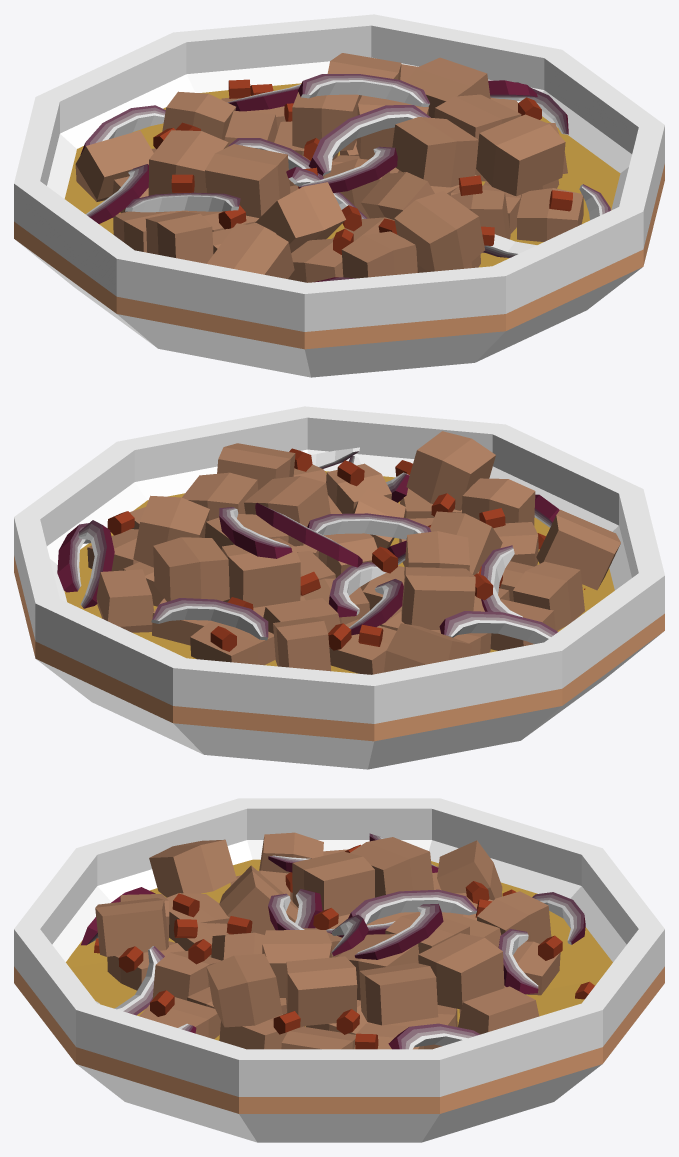
The model's file is FINAL_Kinilaw sa Isda.fbx.
The picture shows the model from 3 angles, top to bottom: view 1: azimuth 30°, elevation 25°; view 2: azimuth 150°, elevation 25°; view 3: azimuth 270°, elevation 25°; orthographic projection. The views are drawn at different scales.
Parts seen in each view (by area): view 1: Kinilaw sa Isda; view 2: Kinilaw sa Isda; view 3: Kinilaw sa Isda.
Part boxes in pixels (box(x1,y1,x2,y2)): Kinilaw sa Isda: box(14, 14, 664, 377); Kinilaw sa Isda: box(14, 406, 664, 769); Kinilaw sa Isda: box(14, 798, 664, 1142).
Bounding box in the file's own units: 109 × 27.42 × 115.
